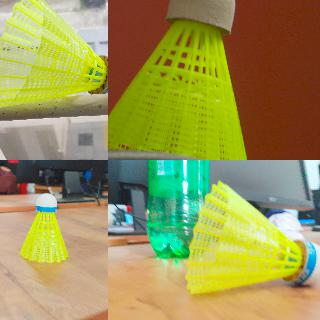shuttlecock: (108, 0, 248, 159), (184, 180, 319, 295), (0, 0, 107, 108), (20, 192, 68, 262)
